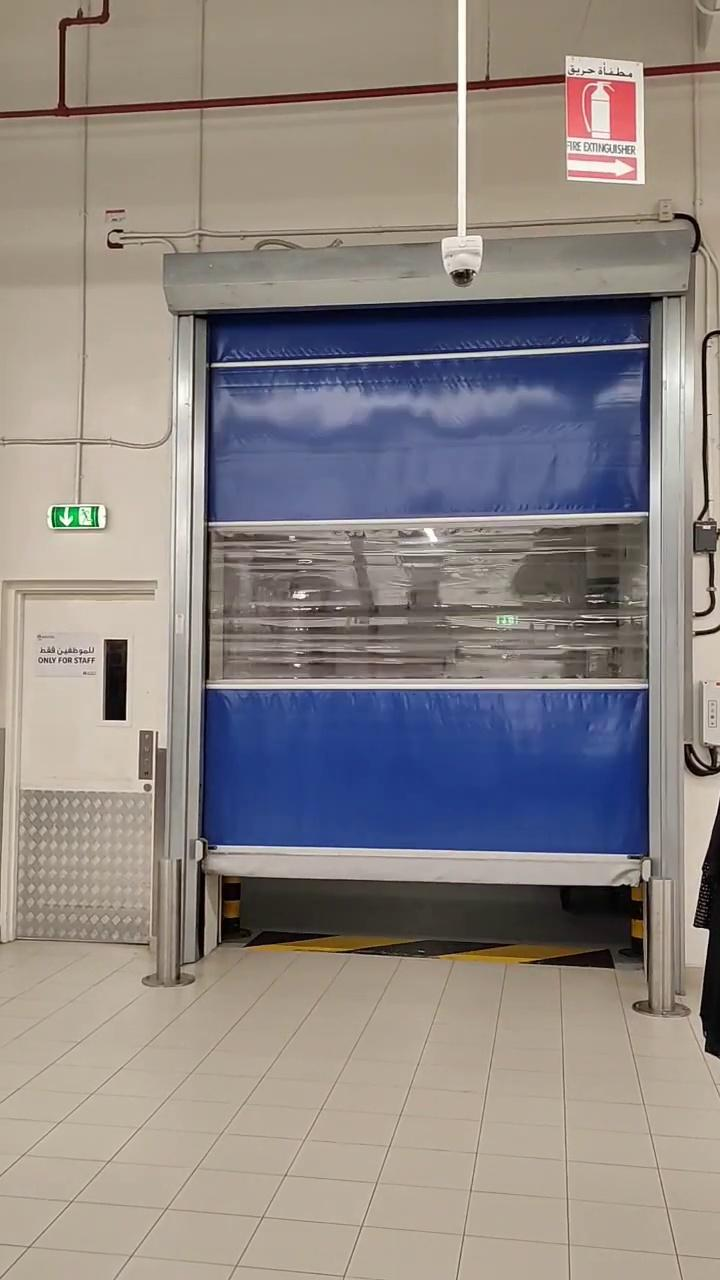Strip: (248, 920, 615, 973)
